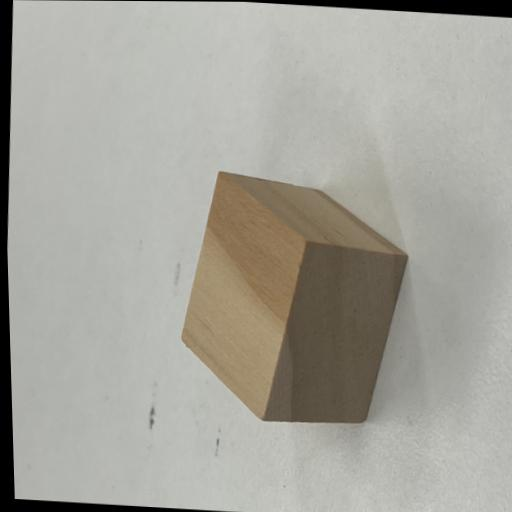wood cube: (182, 171, 407, 423)
